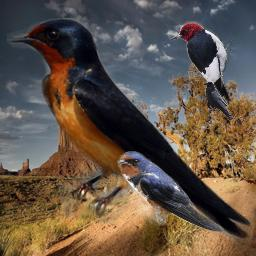Crow: (203, 81, 233, 121)
Swallow: (7, 18, 253, 244), (117, 151, 224, 232)
Woodpecker: (167, 21, 234, 105)
